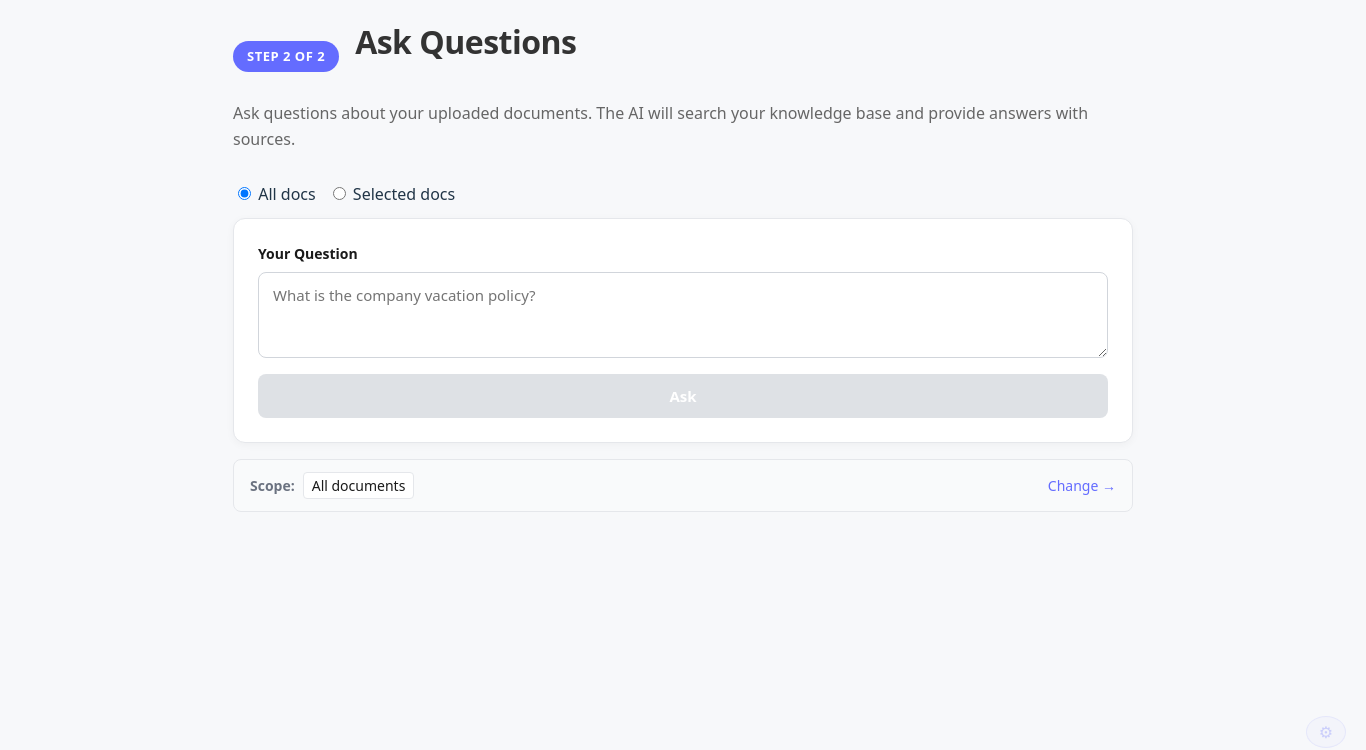
Query SSE behavior › clarification response skips dev invariant and follow-up renders answer
Type "What is the policy year?" into the text box with placeholder "What is the company vacation policy?".
click(683, 315); type("What is the policy year?")  # box [258,272,1108,358]
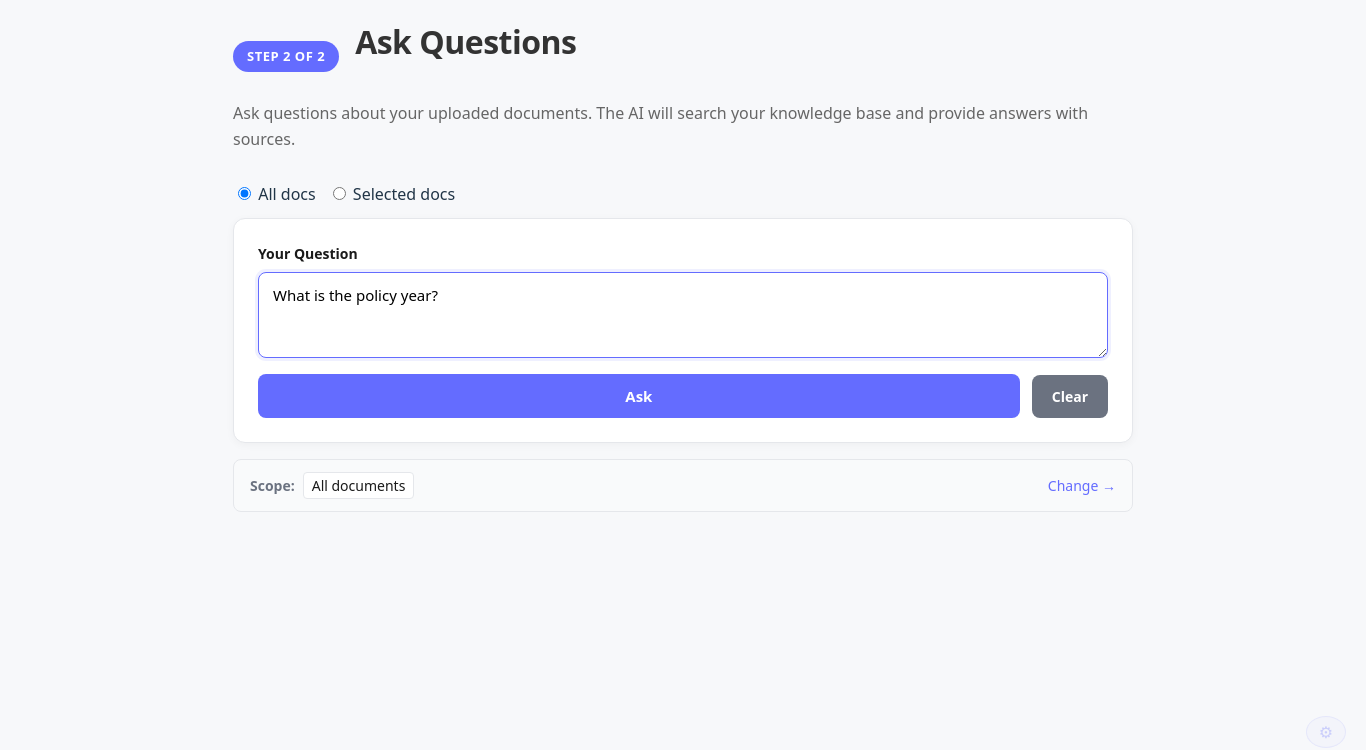
Click the button "Ask".
click(639, 396)  # box [258,374,1020,418]
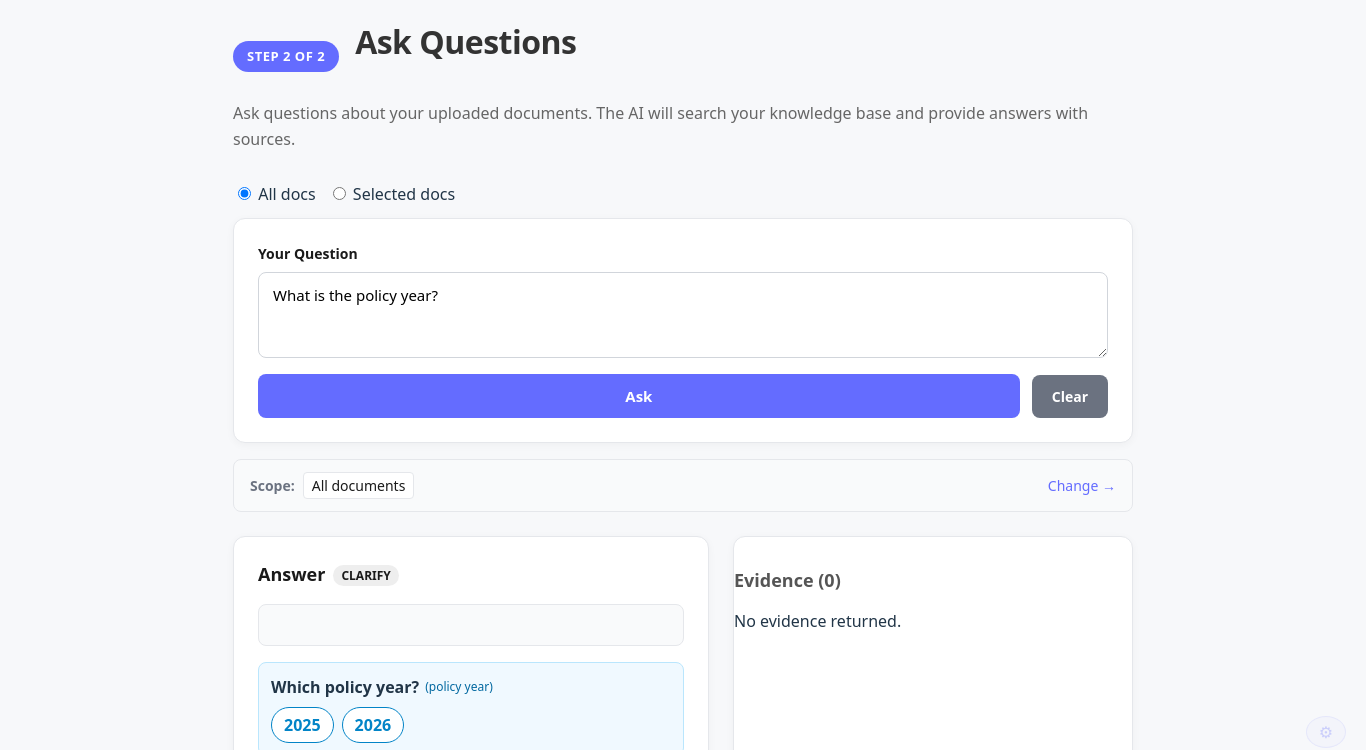
Check: the text "Which policy year?" is shown, box [271,676,419,698]
Click the button "2025".
click(302, 725)  # box [271,707,334,743]
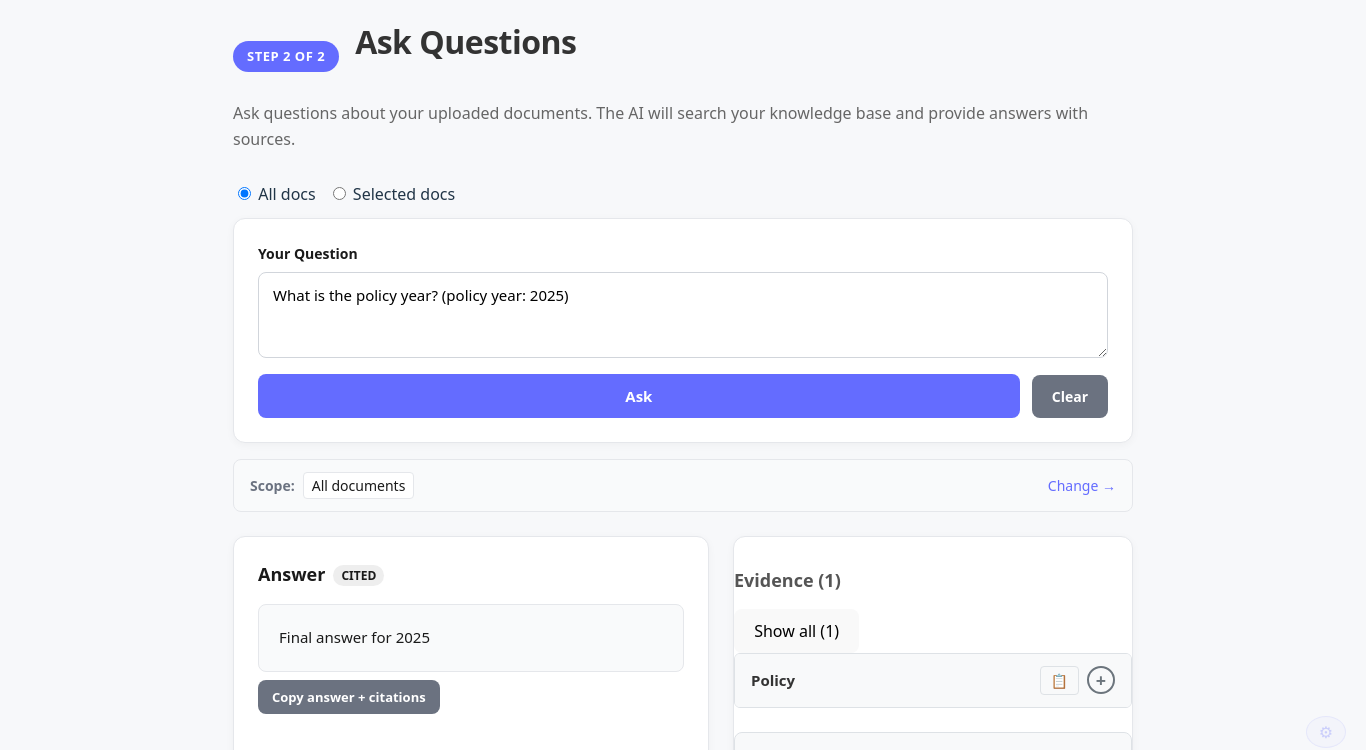
Check: the text "Final answer for 2025" is shown, box [258,604,684,672]
